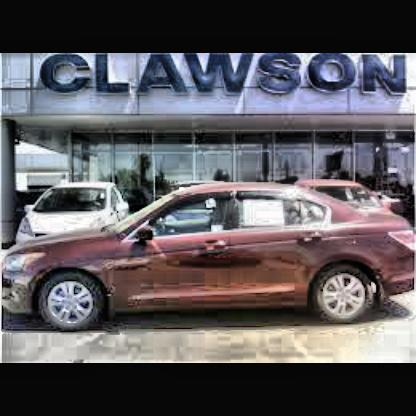Honda Accord Sedan 2012: (6, 184, 416, 334)
